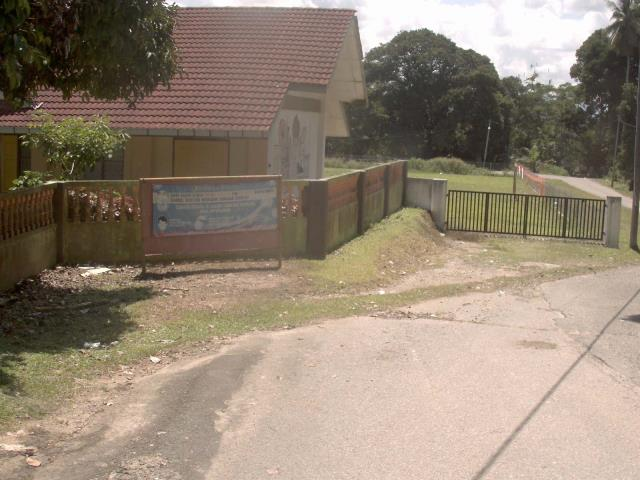ads_sign: (138, 169, 290, 249)
